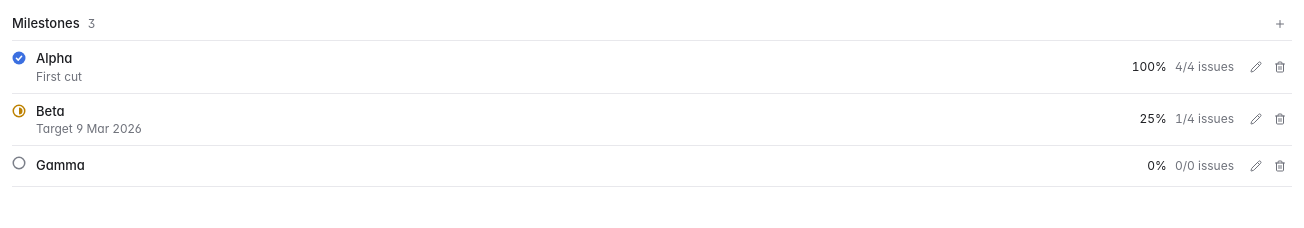
it: milestone list › shows a failed delete on the row
Click the button named "Delete Gamma".
click(1280, 166)  # box [1268, 154, 1292, 178]
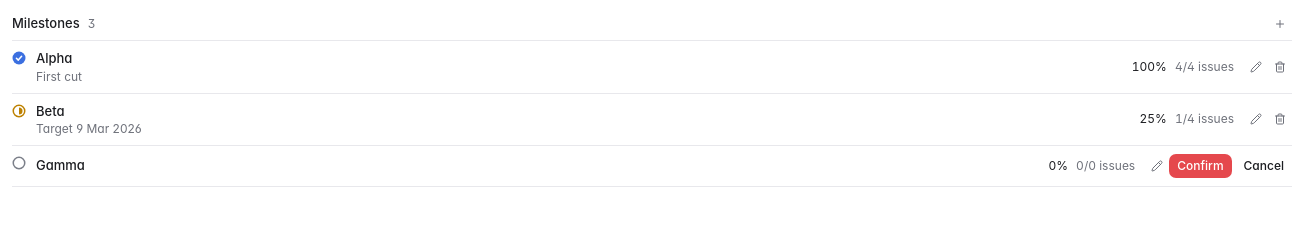
Click the button "Confirm".
click(1200, 166)  # box [1169, 154, 1232, 178]
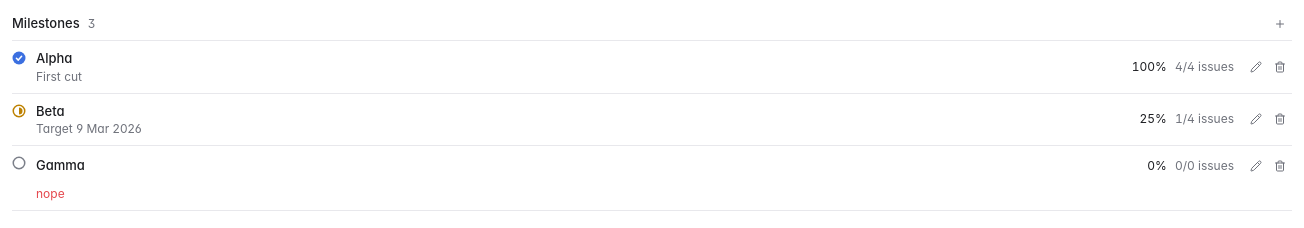
expect the message reads "nope": met, box [36, 186, 65, 201]
